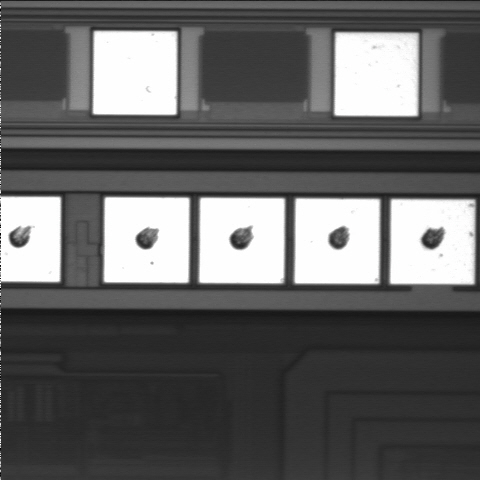pad: (104, 197, 189, 283), (199, 198, 284, 283), (295, 199, 380, 284), (390, 199, 474, 284), (93, 31, 177, 115), (335, 33, 418, 116)
